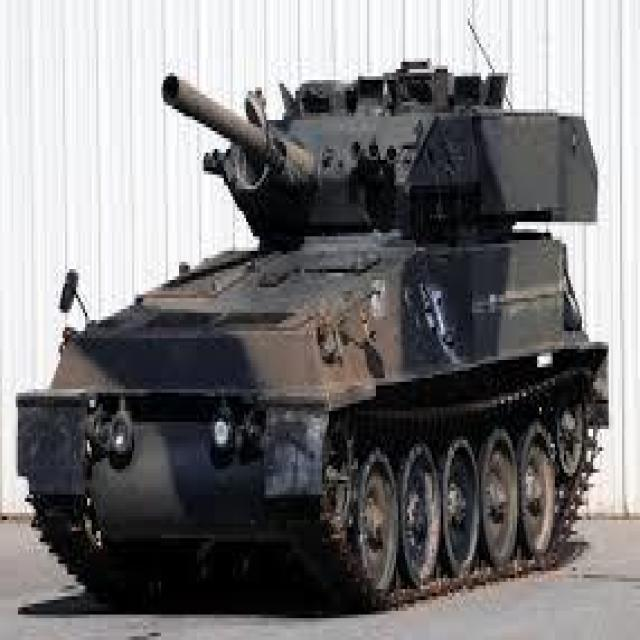MIL_MBT: (12, 53, 570, 602)
